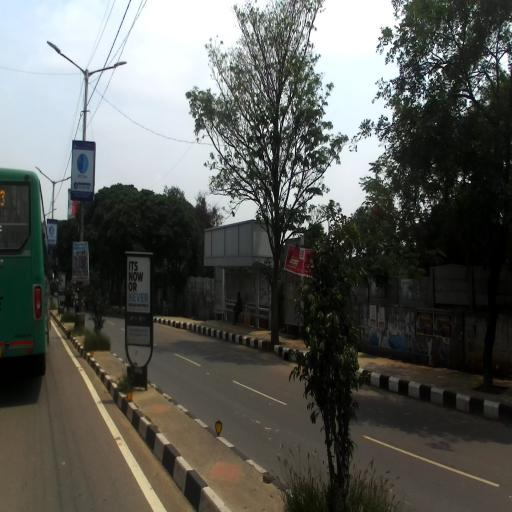street_light_0: (46, 40, 88, 82), (85, 62, 127, 82), (35, 166, 55, 188), (53, 176, 72, 188), (45, 209, 57, 219)
